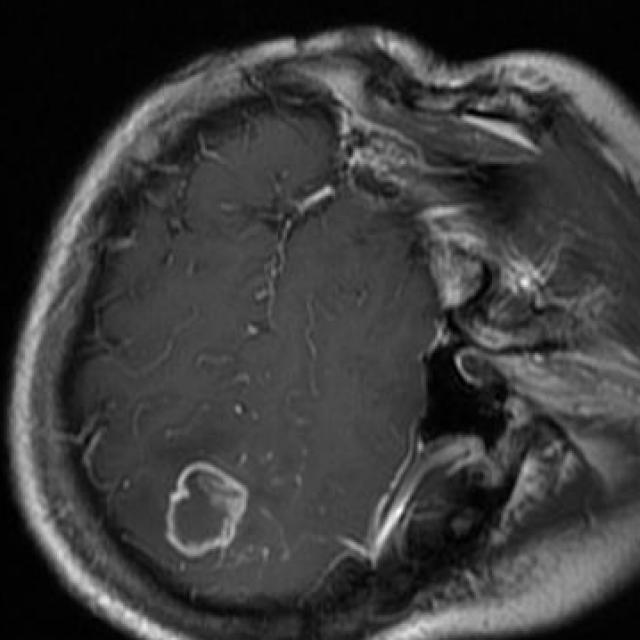glioma: (166, 462, 250, 556)
